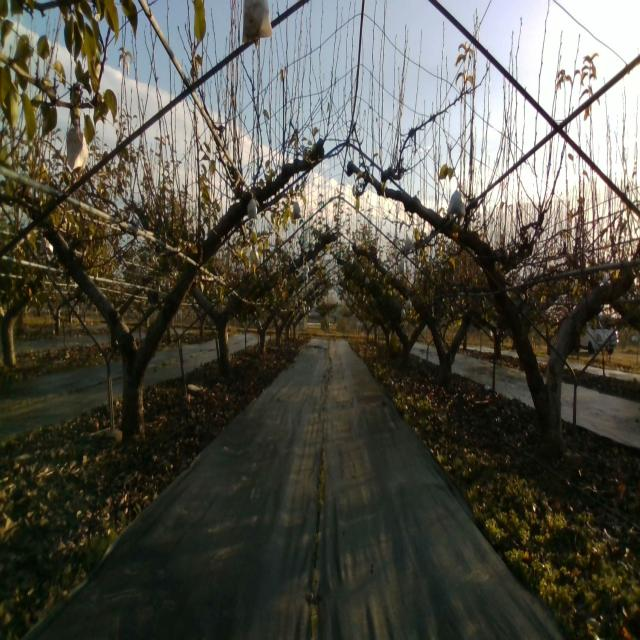pearbags: (65, 117, 90, 182), (240, 0, 273, 43), (446, 190, 466, 218), (246, 192, 258, 221)
